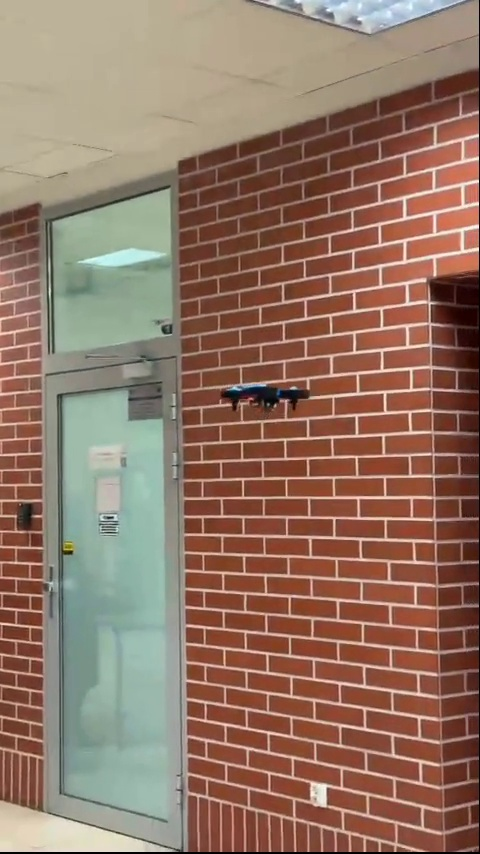drone: (225, 382, 313, 413)
